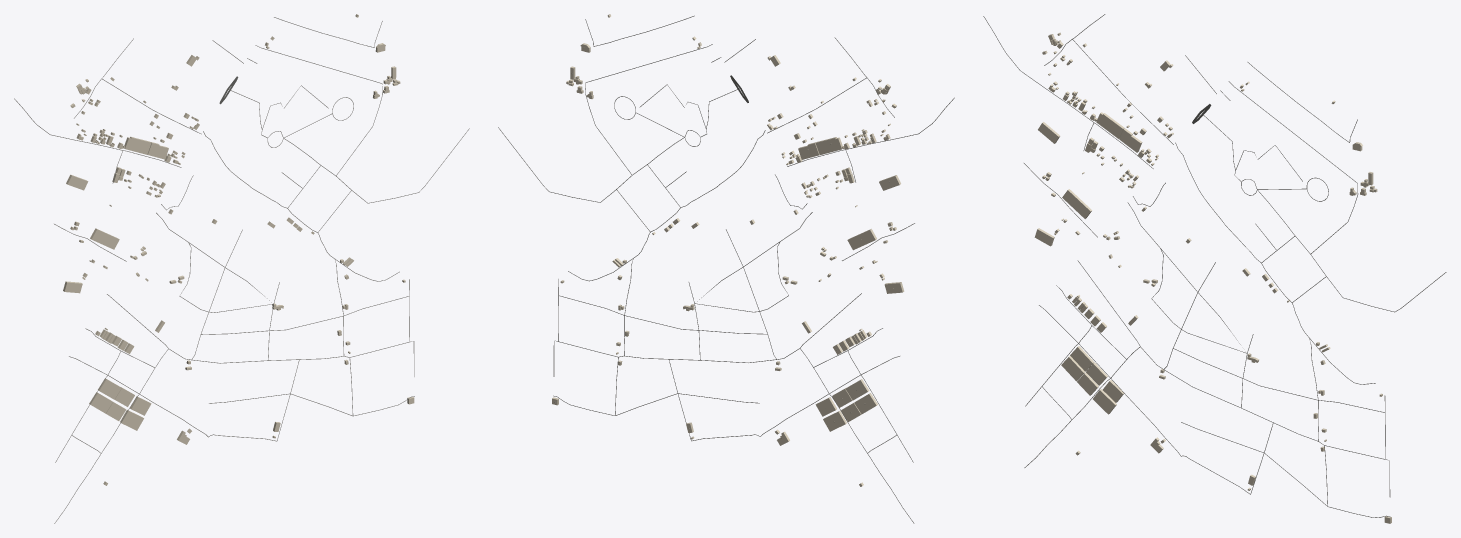
Rendered from historic-palestine-01_19_3425_3133.glb.
3 views of the same model, side by side, from view 1: azimuth 30°, elevation 25°; view 2: azimuth 150°, elevation 25°; view 3: azimuth 330°, elevation 25° (orthographic).
Size of the model in its own units: 1246 by 1218 by 8.7.
